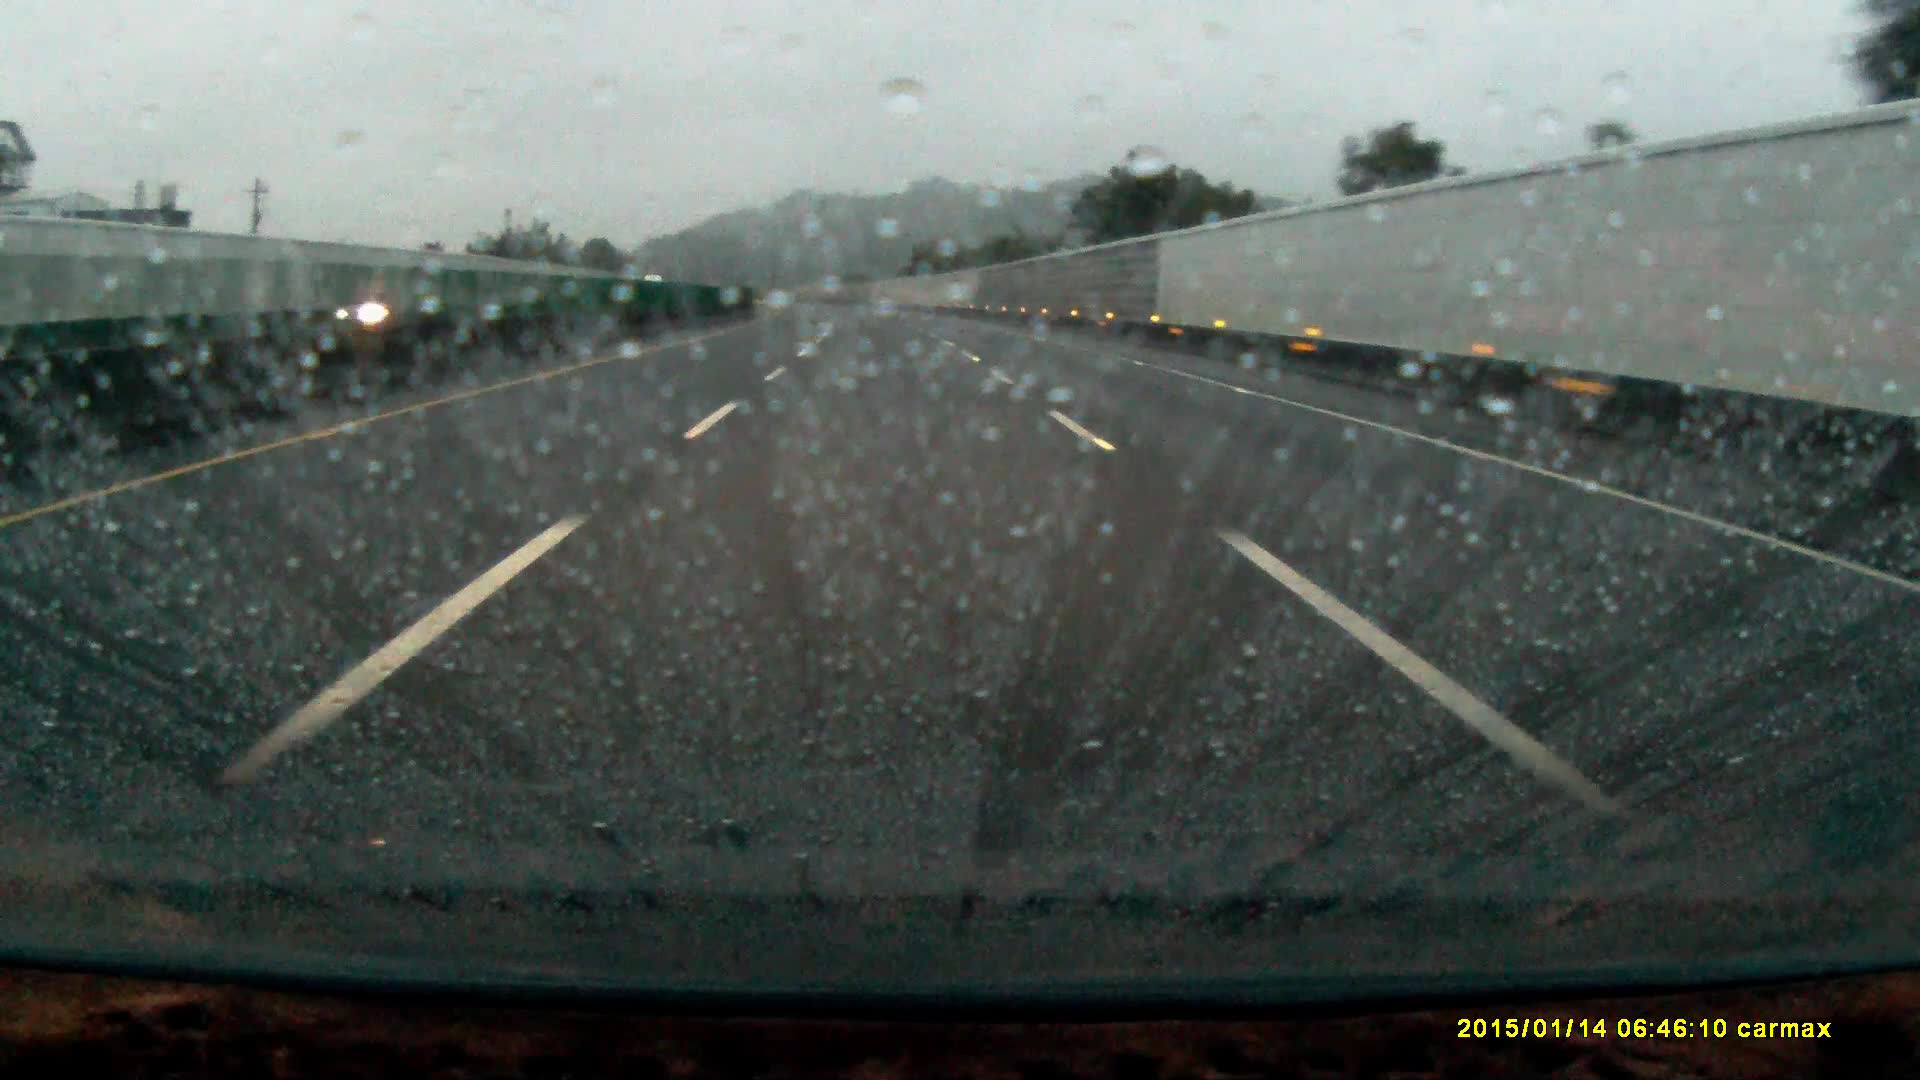vehicle: (336, 293, 405, 324)
